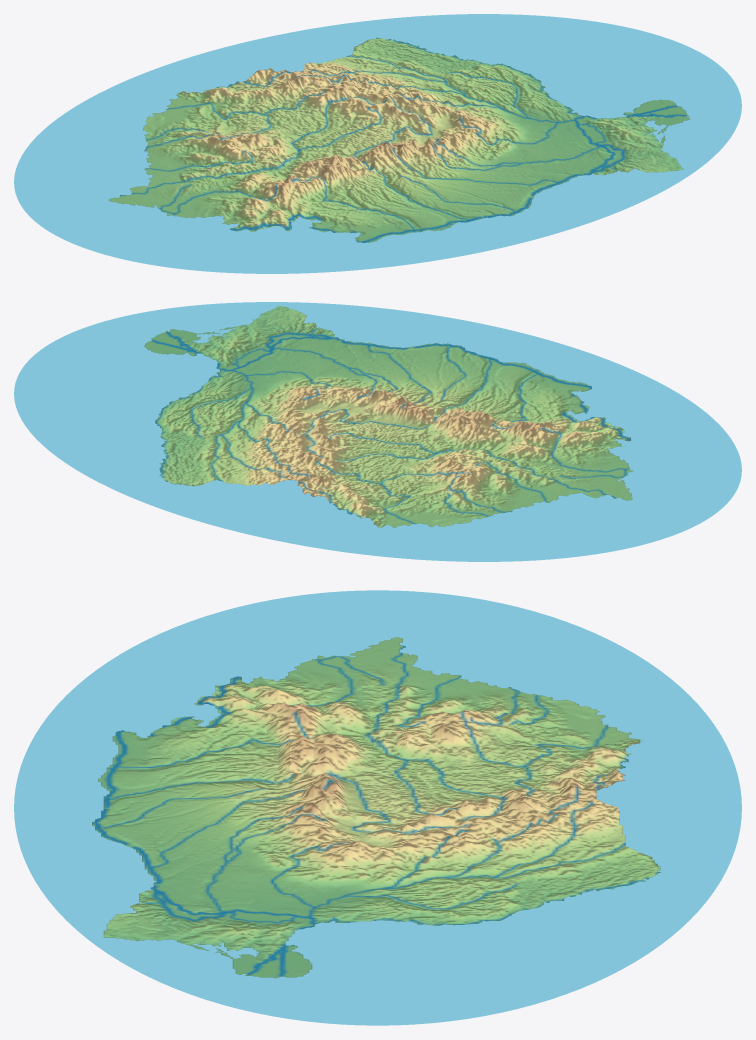
File: ROU-terrain.glb
The picture shows the model from 3 angles, top to bottom: view 1: azimuth 30°, elevation 25°; view 2: azimuth 150°, elevation 25°; view 3: azimuth 270°, elevation 25°; orthographic projection. The views are drawn at different scales.
Parts seen in each view (by area): view 1: Relevo com hidrografia; view 2: Relevo com hidrografia; view 3: Relevo com hidrografia.
Part boxes in pixels (<box>): Relevo com hidrografia: <box>14,14,741,273</box>; Relevo com hidrografia: <box>14,302,741,561</box>; Relevo com hidrografia: <box>14,590,741,1025</box>.
Size of the model in its own units: 2.06 by 0.0527 by 1.45.
Materials: 2 (1 with a texture image).
